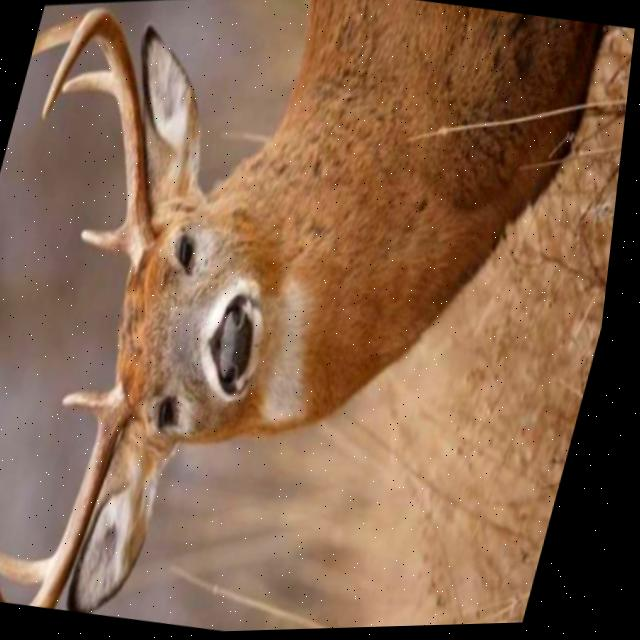L-F: (41, 386, 140, 610)
L-G1: (71, 388, 124, 420)
R-F: (44, 7, 159, 269)
R-G1: (85, 214, 138, 260)
R-G2: (64, 68, 119, 96)
